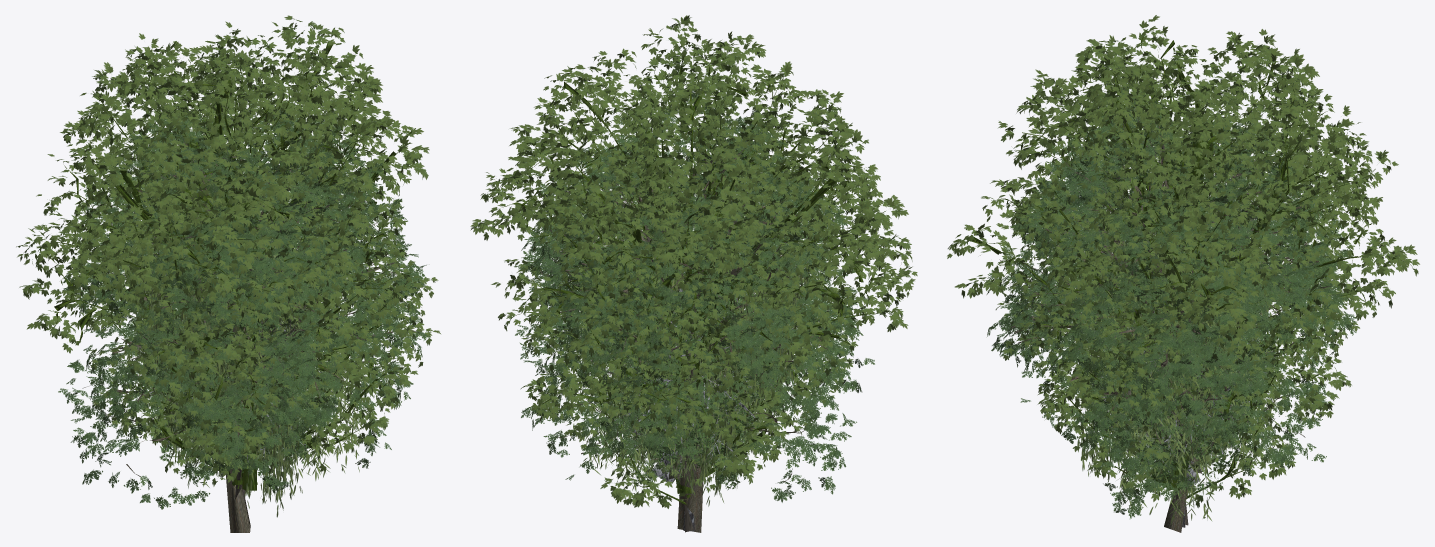
The model's file is vegetation_00.glb.
3 views of the same model, side by side, from view 1: azimuth 30°, elevation 25°; view 2: azimuth 150°, elevation 25°; view 3: azimuth 270°, elevation 25° (orthographic). The views are drawn at different scales.
Parts seen in each view (by area): view 1: prototype_005, prototype_007, prototype_003, prototype_006, prototype_001; view 2: prototype_005, prototype_007, prototype_003, prototype_006, prototype_001, prototype_000, prototype_002; view 3: prototype_005, prototype_007, prototype_003, prototype_006, prototype_001, prototype_000, prototype_002.
Part boxes in pixels (x1,y1,x2,y2): prototype_005: (16,15,440,491); prototype_007: (58,107,430,532); prototype_003: (78,47,438,486); prototype_006: (135,206,373,517); prototype_001: (132,240,345,486); prototype_005: (470,15,917,508); prototype_007: (514,86,874,532); prototype_003: (535,72,853,498); prototype_006: (579,202,808,532); prototype_001: (604,244,779,531); prototype_000: (611,330,754,488); prototype_002: (622,314,764,478); prototype_005: (947,15,1419,508); prototype_007: (985,87,1356,532); prototype_003: (1003,45,1355,482); prototype_006: (1074,209,1280,526); prototype_001: (1081,244,1292,527); prototype_000: (1114,328,1256,493); prototype_002: (1128,337,1234,469).
Size of the model in its own units: 18.25 by 20.78 by 18.06.
Materials: 12 (12 with a texture image).
